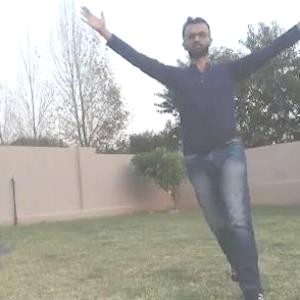takeoff: (94, 18, 296, 274)
